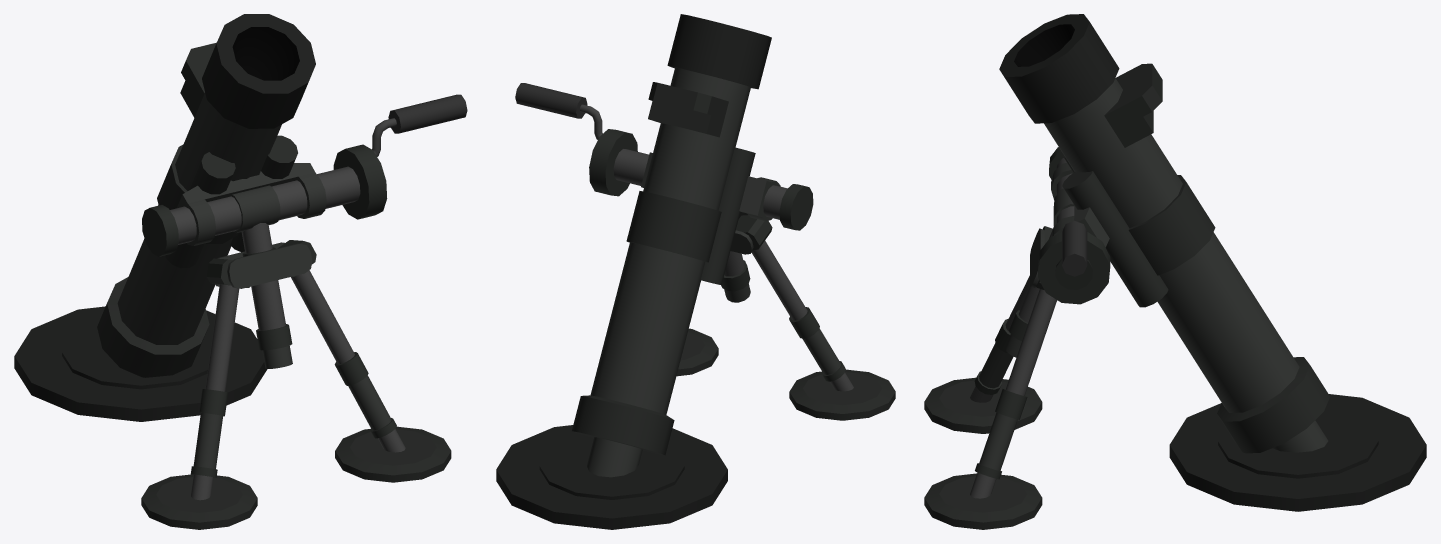
File: NPC_NORMAL_EUROP20CM_TURRET_GRENADE_01_WEAPON.fbx
3 renders of one model, left to right at view 1: azimuth 30°, elevation 25°; view 2: azimuth 150°, elevation 25°; view 3: azimuth 270°, elevation 25°, orthographic. The views are drawn at different scales.
Parts seen in each view (by area): view 1: NPC_NORMAL_EUROP20CM_TURRET_GRENADE_01_WEAPON_03, NPC_NORMAL_EUROP20CM_TURRET_GRENADE_01_WEAPON_02, NPC_NORMAL_EUROP20CM_TURRET_GRENADE_01_WEAPON_01; view 2: NPC_NORMAL_EUROP20CM_TURRET_GRENADE_01_WEAPON_03, NPC_NORMAL_EUROP20CM_TURRET_GRENADE_01_WEAPON_01, NPC_NORMAL_EUROP20CM_TURRET_GRENADE_01_WEAPON_02; view 3: NPC_NORMAL_EUROP20CM_TURRET_GRENADE_01_WEAPON_03, NPC_NORMAL_EUROP20CM_TURRET_GRENADE_01_WEAPON_01, NPC_NORMAL_EUROP20CM_TURRET_GRENADE_01_WEAPON_02.
Boxes of the visible parts, x1,y1,x2,y2 form: NPC_NORMAL_EUROP20CM_TURRET_GRENADE_01_WEAPON_03: (97, 14, 315, 377); NPC_NORMAL_EUROP20CM_TURRET_GRENADE_01_WEAPON_02: (142, 94, 467, 500); NPC_NORMAL_EUROP20CM_TURRET_GRENADE_01_WEAPON_01: (14, 306, 451, 529); NPC_NORMAL_EUROP20CM_TURRET_GRENADE_01_WEAPON_03: (572, 14, 771, 477); NPC_NORMAL_EUROP20CM_TURRET_GRENADE_01_WEAPON_01: (496, 328, 895, 529); NPC_NORMAL_EUROP20CM_TURRET_GRENADE_01_WEAPON_02: (515, 83, 853, 391); NPC_NORMAL_EUROP20CM_TURRET_GRENADE_01_WEAPON_03: (999, 14, 1330, 453); NPC_NORMAL_EUROP20CM_TURRET_GRENADE_01_WEAPON_01: (924, 377, 1426, 529); NPC_NORMAL_EUROP20CM_TURRET_GRENADE_01_WEAPON_02: (970, 147, 1110, 498).
Bounding box in the file's own units: 11.66 × 13.76 × 14.01.
